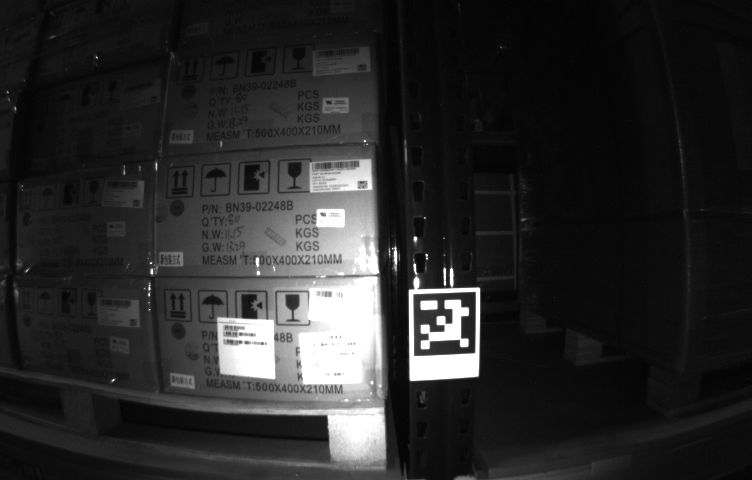True Barcode: (298, 335, 357, 383)
